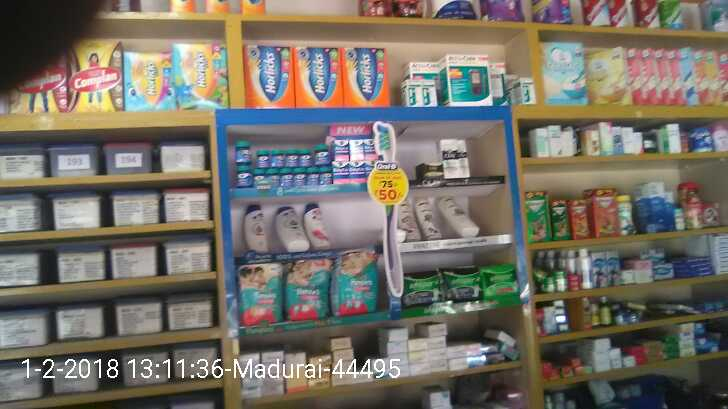beauty: (226, 129, 380, 192), (232, 199, 339, 252)
pharmacy: (284, 263, 332, 323), (235, 264, 282, 324), (334, 251, 378, 314), (402, 267, 444, 305), (474, 263, 519, 298), (445, 265, 479, 299)
